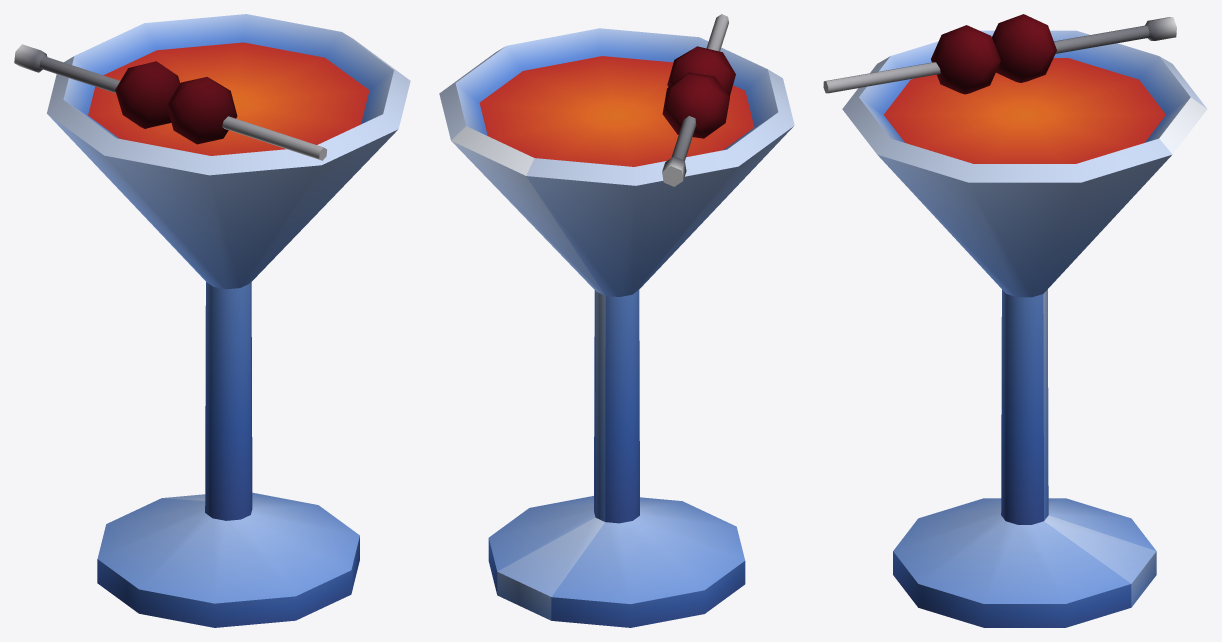
Rendered from m_Manhattan01.fbx.
3 renders of one model, left to right at view 1: azimuth 30°, elevation 25°; view 2: azimuth 150°, elevation 25°; view 3: azimuth 270°, elevation 25°, orthographic. The views are drawn at different scales.
Visible parts, largest first — view 1: m_Manhattan01; view 2: m_Manhattan01; view 3: m_Manhattan01.
Boxes of the visible parts, x1,y1,x2,y2 form: m_Manhattan01: (14, 14, 410, 627); m_Manhattan01: (439, 14, 794, 627); m_Manhattan01: (823, 14, 1207, 627).
Size of the model in its own units: 13.18 by 21.73 by 14.57.
